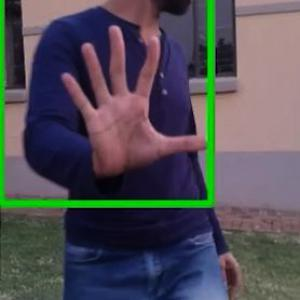follow_hand: (54, 14, 210, 183)
